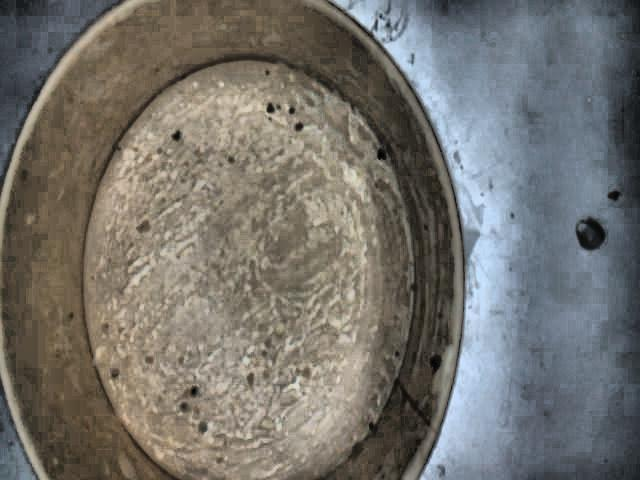Paper: (0, 0, 474, 480)
